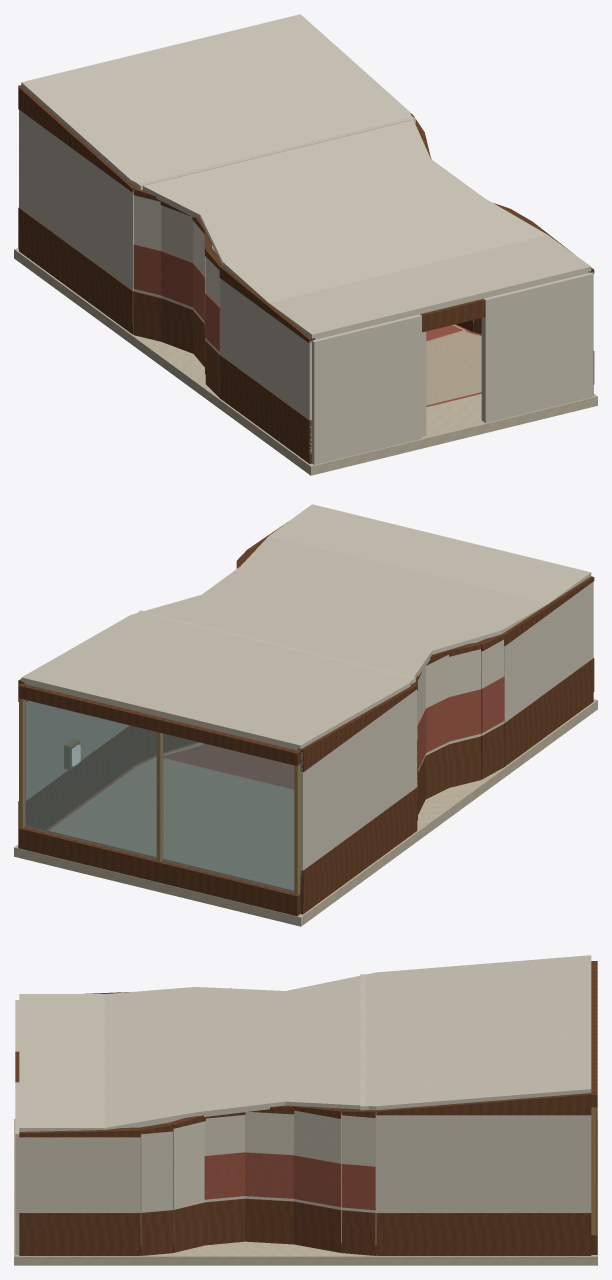
File: shell.glb
3 views of the same model, one above another, from view 1: azimuth 30°, elevation 25°; view 2: azimuth 150°, elevation 25°; view 3: azimuth 270°, elevation 25° (orthographic).
Visible parts, largest first — view 1: SUI_Runtime_ivory_enamel, SUI_Runtime_warm_walnut, SUI_Runtime_warm_stone, SUI_Runtime_clay_weave, SUI_Runtime_oatmeal_weave; view 2: SUI_Runtime_ivory_enamel, SUI_Runtime_warm_walnut, SUI_Runtime_SuiteHospitalityGlass, SUI_Runtime_oatmeal_weave, SUI_Runtime_warm_stone, SUI_Runtime_clay_weave, SUI_Runtime_champagne_metal; view 3: SUI_Runtime_ivory_enamel, SUI_Runtime_warm_walnut, SUI_Runtime_warm_stone, SUI_Runtime_clay_weave, SUI_Runtime_champagne_metal.
Boxes of the visible parts, <box> form: SUI_Runtime_ivory_enamel: <box>19,14,593,464</box>; SUI_Runtime_warm_walnut: <box>18,85,594,463</box>; SUI_Runtime_warm_stone: <box>14,248,597,475</box>; SUI_Runtime_clay_weave: <box>133,244,481,406</box>; SUI_Runtime_oatmeal_weave: <box>212,245,481,405</box>; SUI_Runtime_ivory_enamel: <box>19,504,593,885</box>; SUI_Runtime_warm_walnut: <box>18,522,594,916</box>; SUI_Runtime_SuiteHospitalityGlass: <box>24,700,294,892</box>; SUI_Runtime_oatmeal_weave: <box>49,743,293,890</box>; SUI_Runtime_warm_stone: <box>14,699,597,926</box>; SUI_Runtime_clay_weave: <box>46,676,504,830</box>; SUI_Runtime_champagne_metal: <box>19,698,300,895</box>; SUI_Runtime_ivory_enamel: <box>15,955,591,1254</box>; SUI_Runtime_warm_walnut: <box>15,961,597,1255</box>; SUI_Runtime_warm_stone: <box>14,1119,597,1265</box>; SUI_Runtime_clay_weave: <box>204,1152,375,1210</box>; SUI_Runtime_champagne_metal: <box>591,1107,596,1234</box>.
Size of the model in its own units: 7.2 by 4.26 by 12.9.
Materials: 9 (7 with a texture image).
